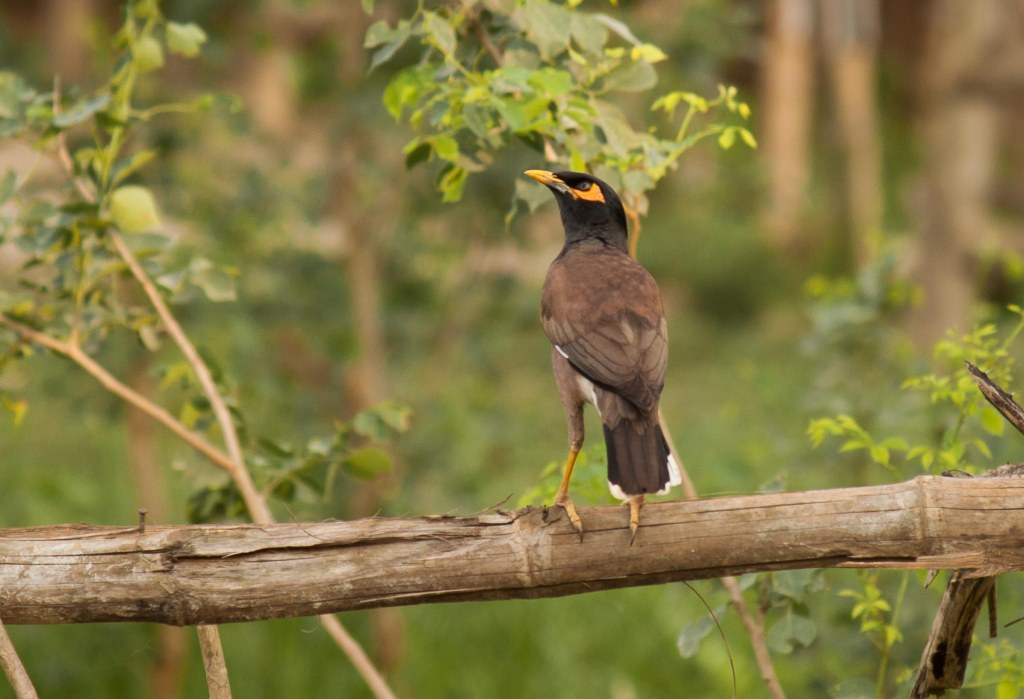bird: (503, 144, 688, 562)
